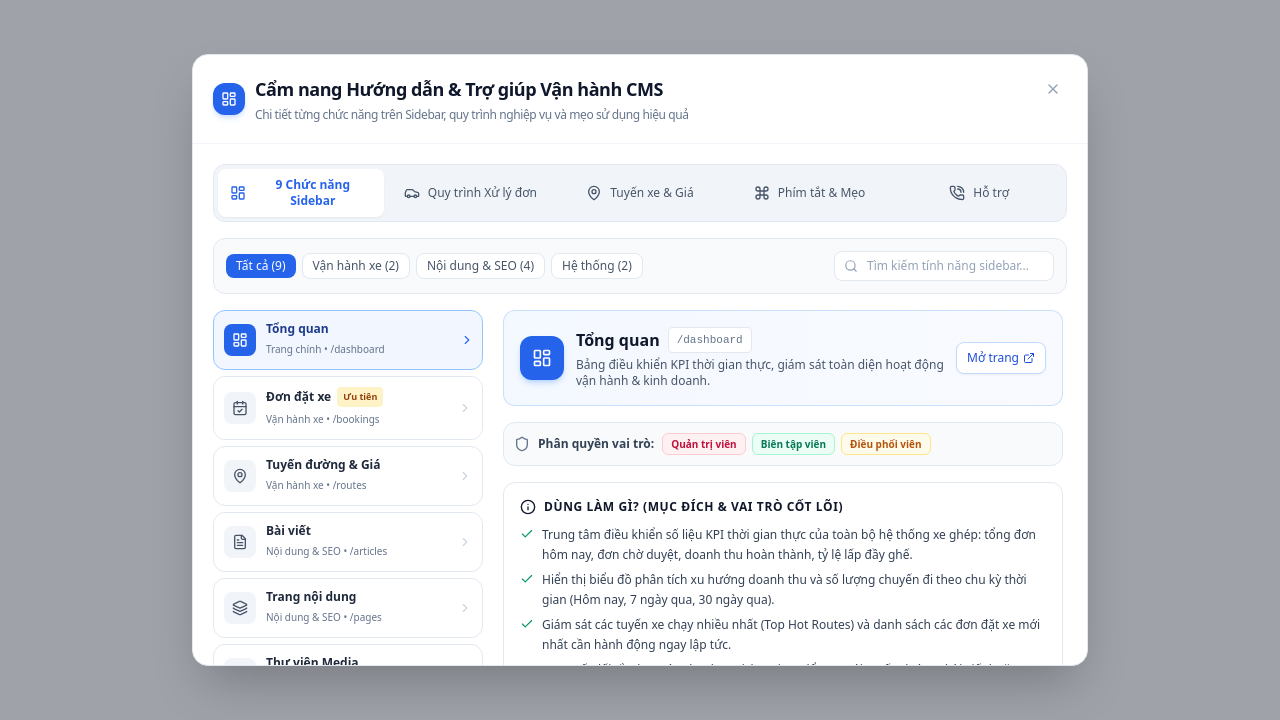
it: QuickHelpModal Component & Sidebar Guides › hỗ trợ lọc danh sách chức năng theo nhóm (Vận hành xe, Nội dung & SEO, Hệ thống)
Click the button "Hệ thống (2)".
click(597, 266)  # box top-left (551, 253), bottom-right (643, 279)
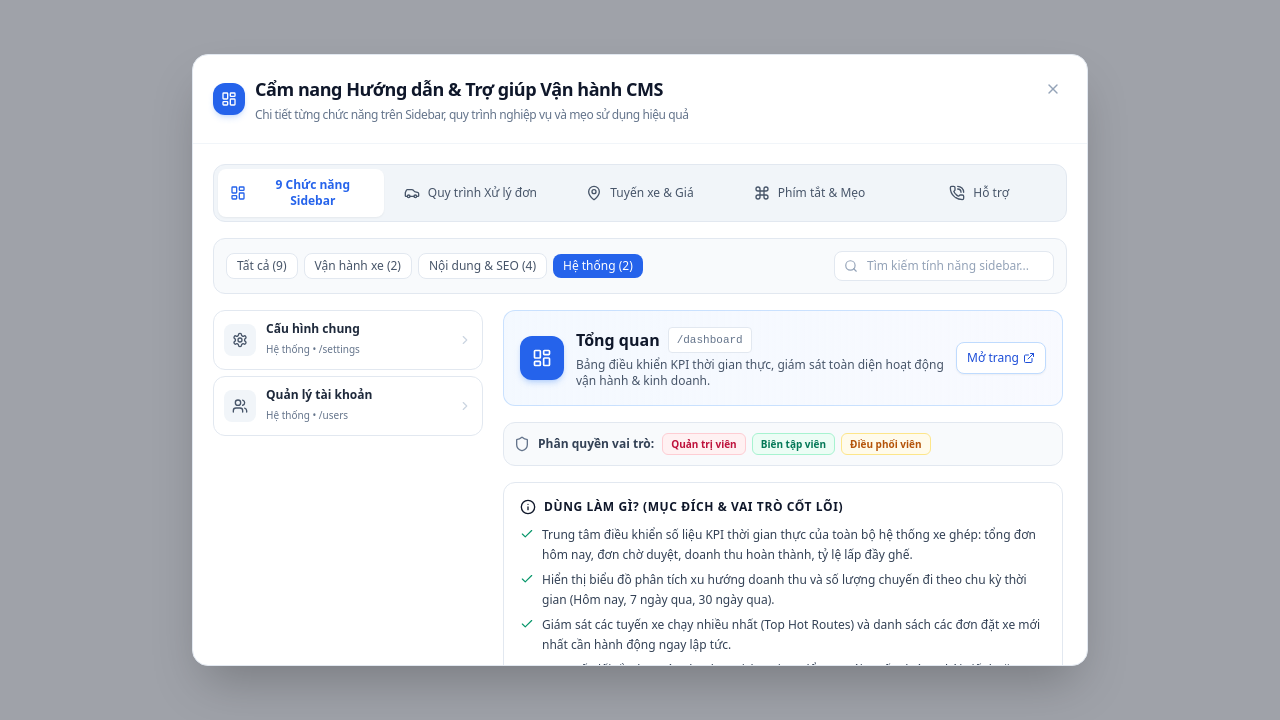
Expected: the button "Cấu hình chung Hệ thống • /settings" is shown, top-left (213, 310), bottom-right (483, 370)
Expected: the button "Quản lý tài khoản Hệ thống • /users" is shown, top-left (213, 376), bottom-right (483, 436)
